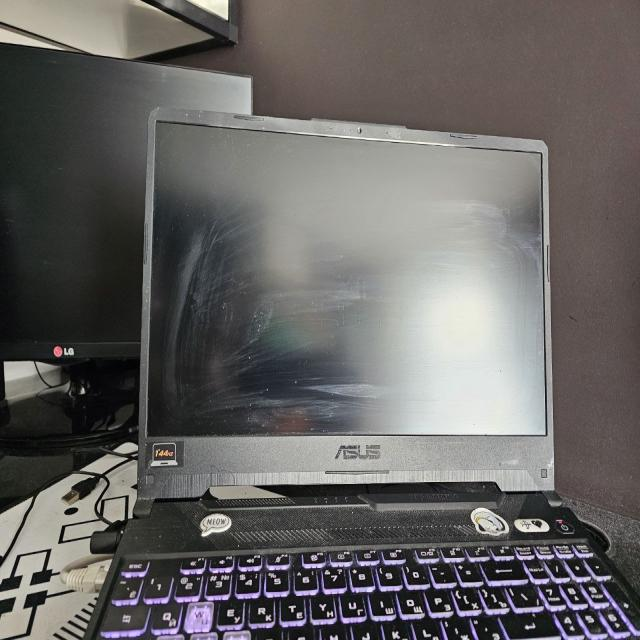scratch: (177, 184, 239, 335)
